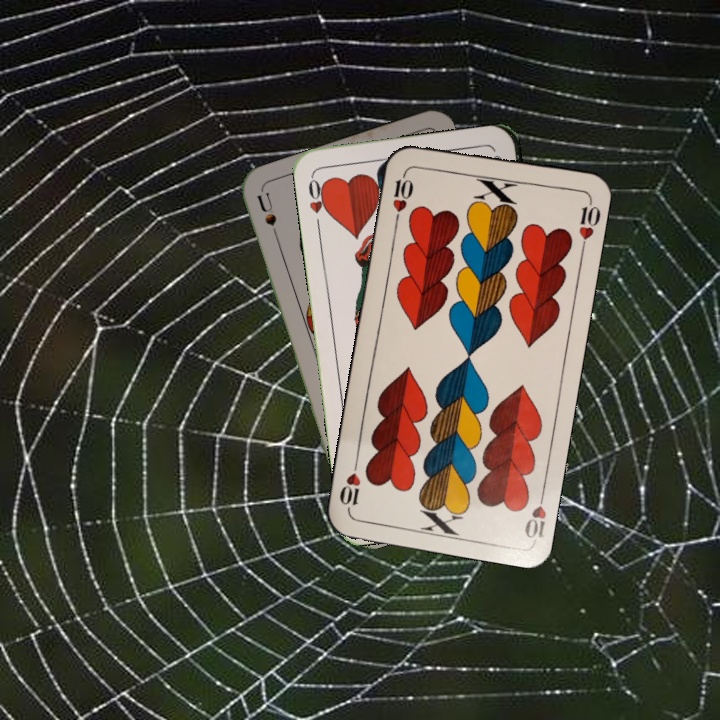H10: (520, 484, 549, 543), (388, 167, 416, 225)
HO: (304, 173, 332, 232)
SU: (253, 189, 283, 248)
